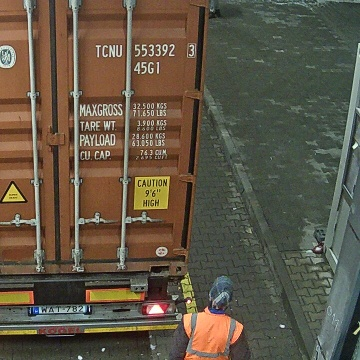serial_id: (95, 44, 194, 57)
